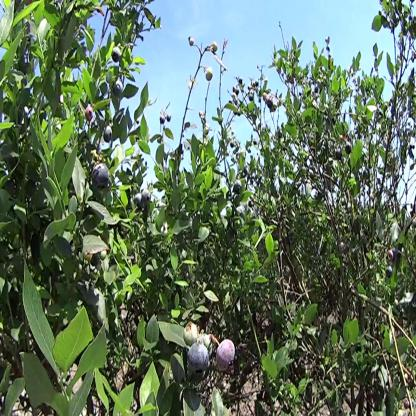intermediate: (85, 103, 95, 122)
mature: (189, 344, 213, 375), (217, 341, 237, 375), (92, 161, 112, 192), (115, 79, 125, 100), (112, 45, 122, 64), (105, 123, 114, 142)
young: (184, 322, 201, 347), (205, 68, 215, 84)
